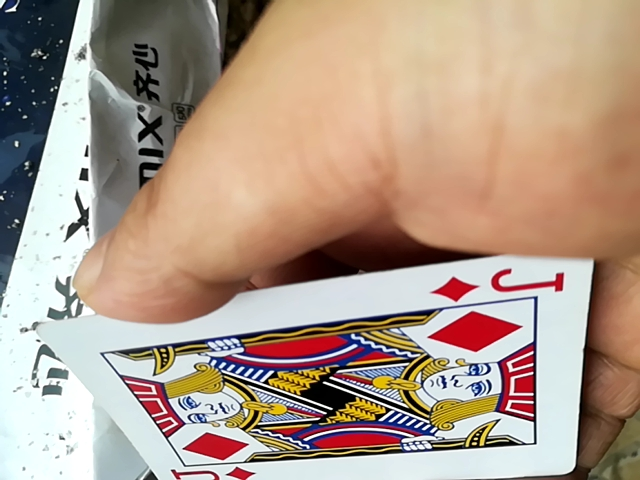fk j: (70, 253, 586, 478)
